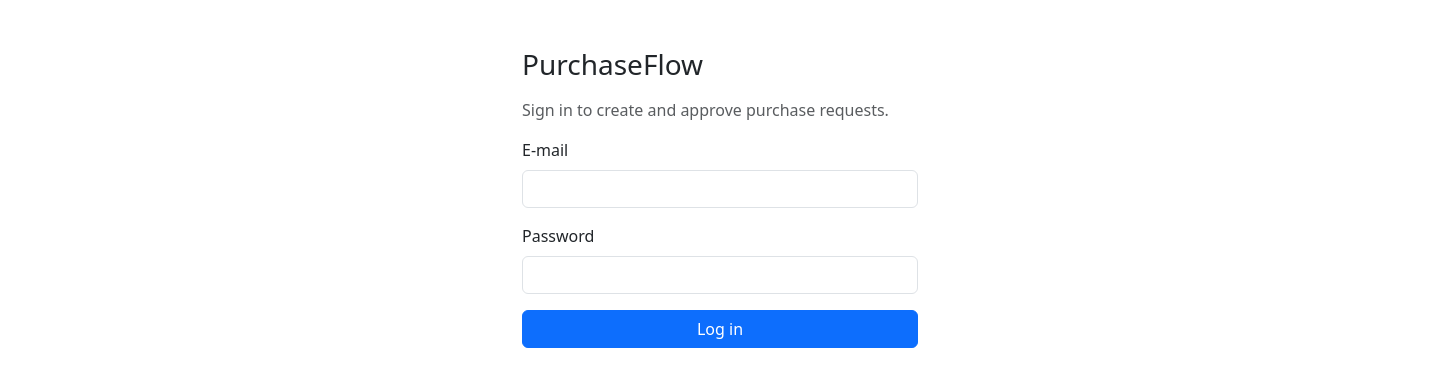
Test: F-01 login screen (component) › CT-02 / AC-10: a successful login opens the app shell with the user's name and role
In the field labelled "E-mail": (720, 189) [522,170,918,208], type "ploy@purchaseflow.test"
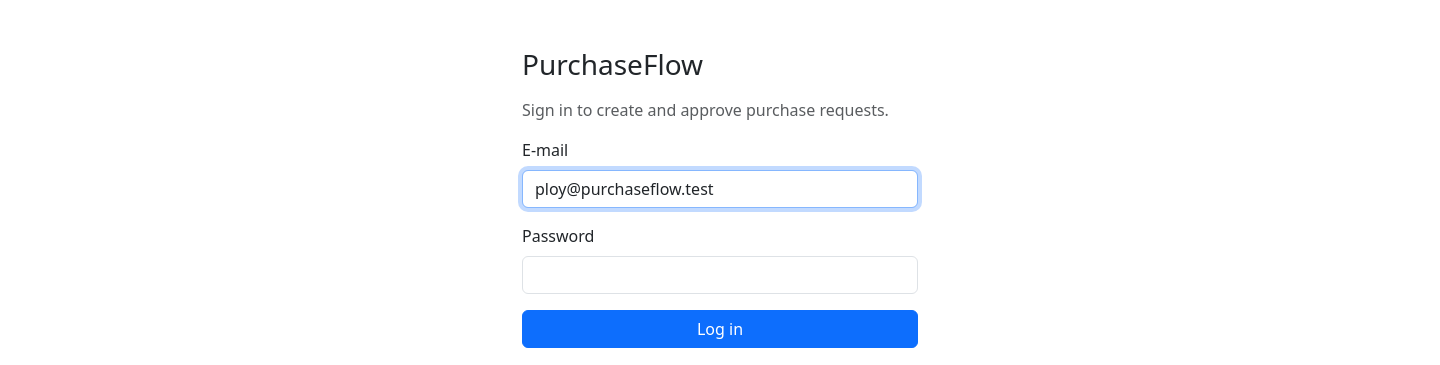
In the password field labelled "Password": (720, 275) [522,256,918,294], type "ChangeMe123!"
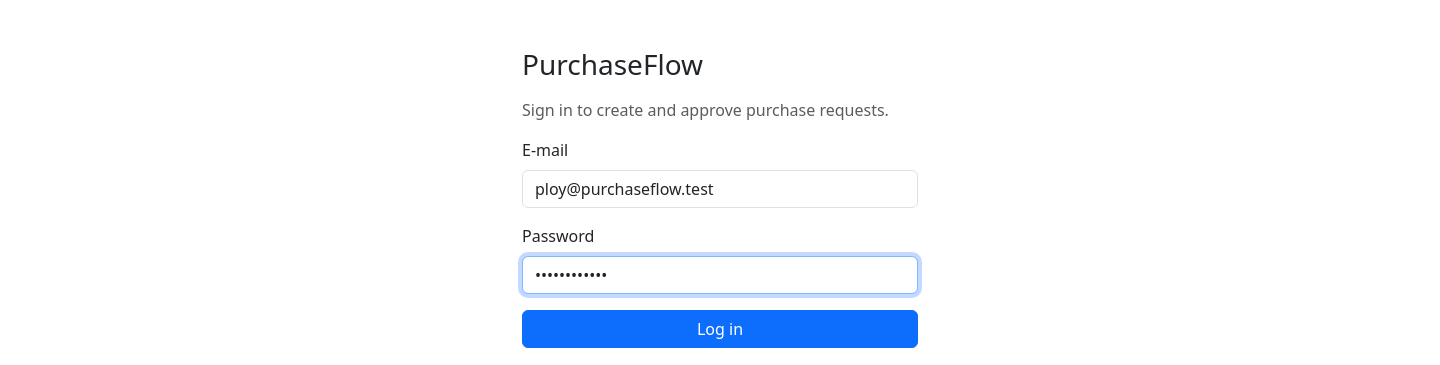
Click the button "Log in": (720, 329) [522,310,918,348]
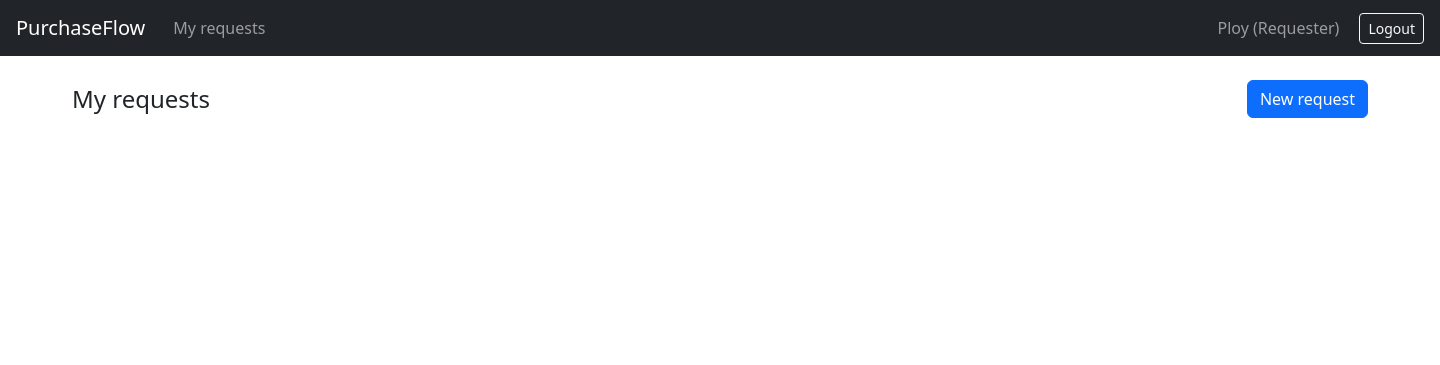
Check: the text with test id "current-user" reads "Ploy (Requester)", box [1218,17,1339,39]
